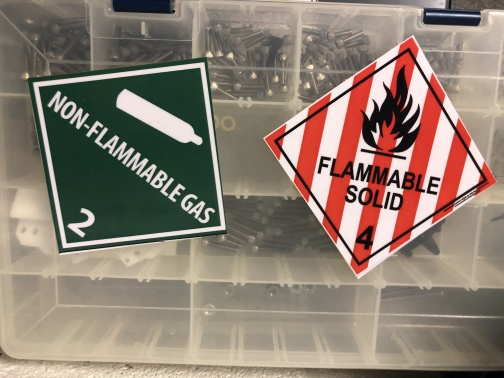FlammableSolid: (263, 34, 498, 276)
NonFlammableGas: (30, 58, 227, 254)
